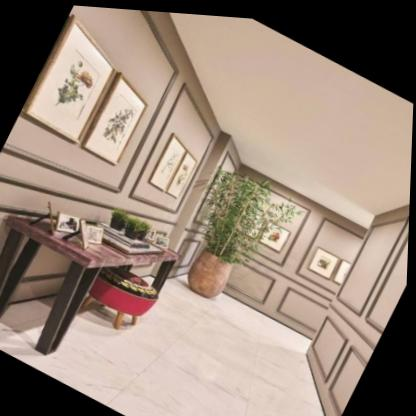Futec frame: (184, 158, 370, 340), (337, 207, 411, 329)
